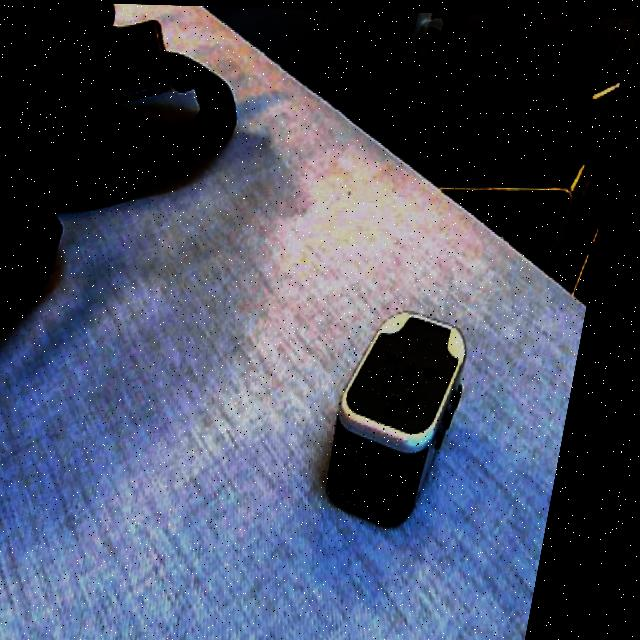adapter: (334, 305, 488, 523)
